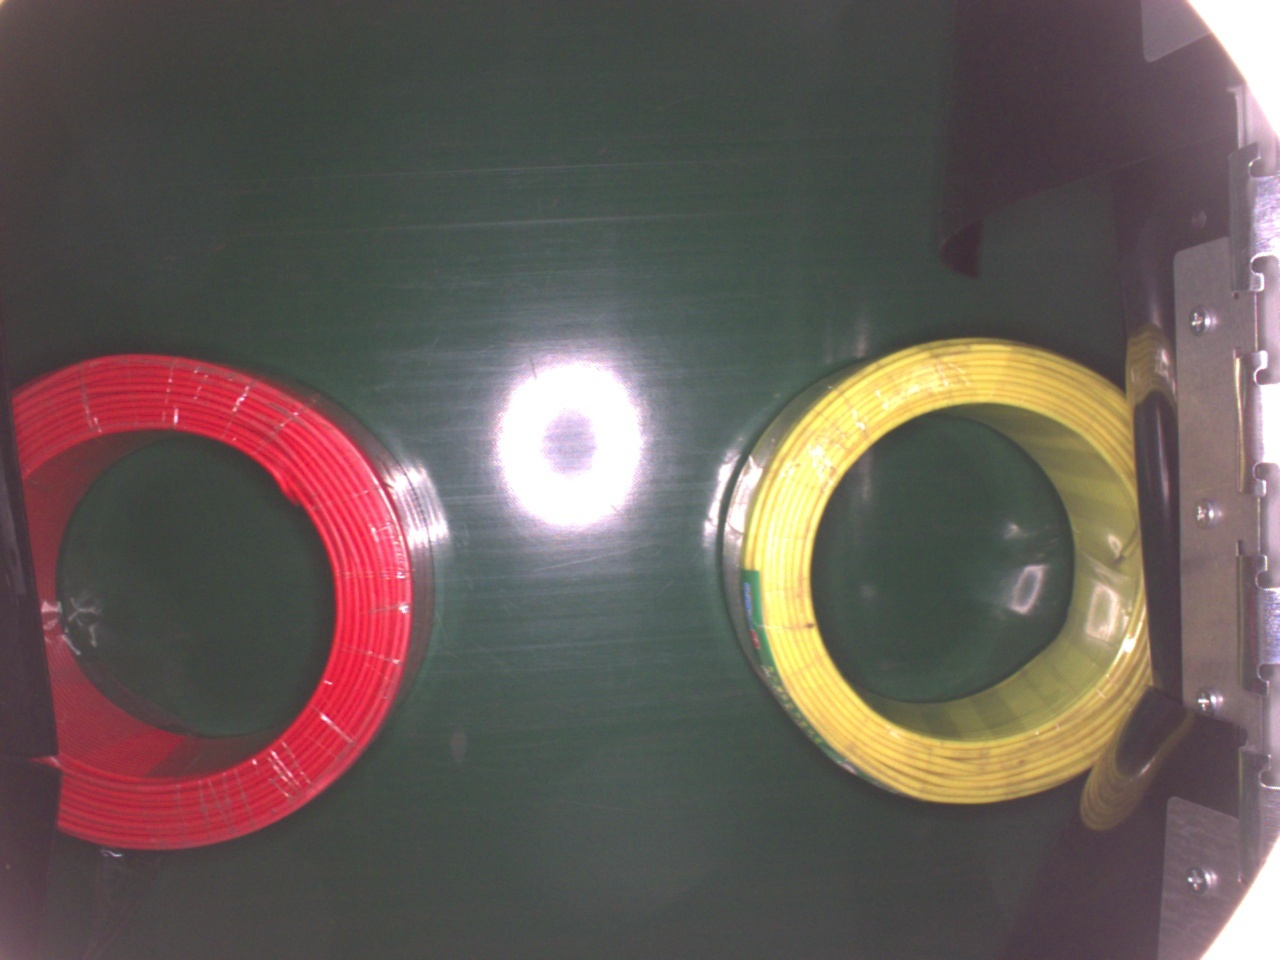red: (9, 348, 433, 849)
yellow: (719, 333, 1151, 805)
